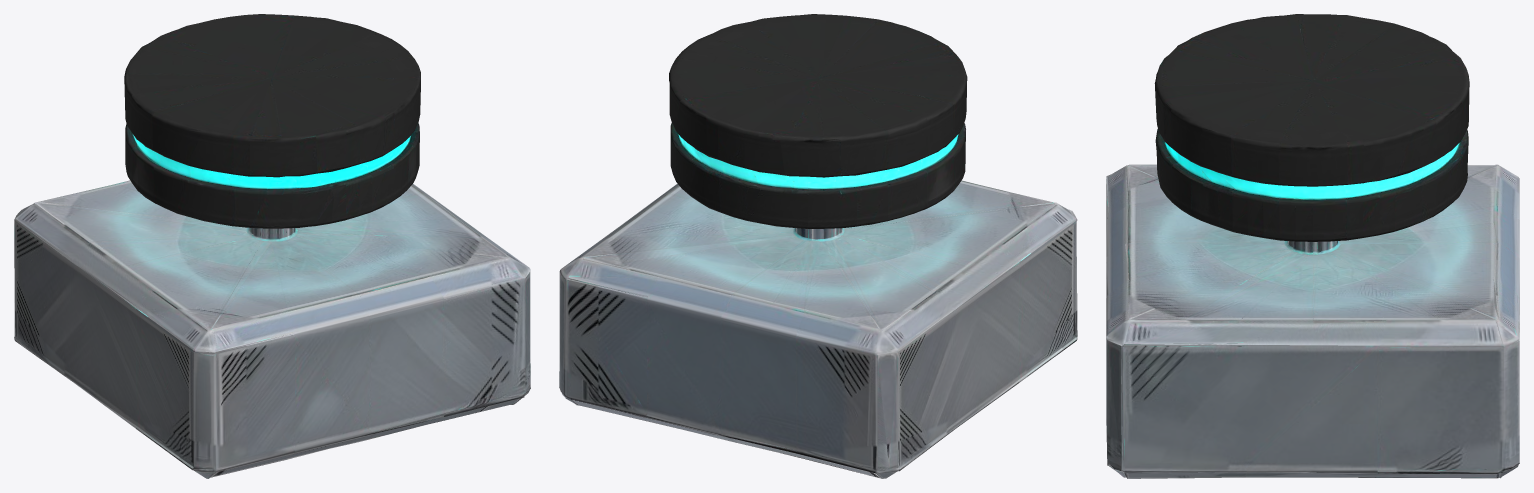
The model's file is superconductor.glb.
3 renders of one model, left to right at view 1: azimuth 30°, elevation 25°; view 2: azimuth 150°, elevation 25°; view 3: azimuth 270°, elevation 25°, orthographic. The views are drawn at different scales.
Size of the model in its own units: 1 by 0.8555 by 1.
Materials: 1 (1 with a texture image).
